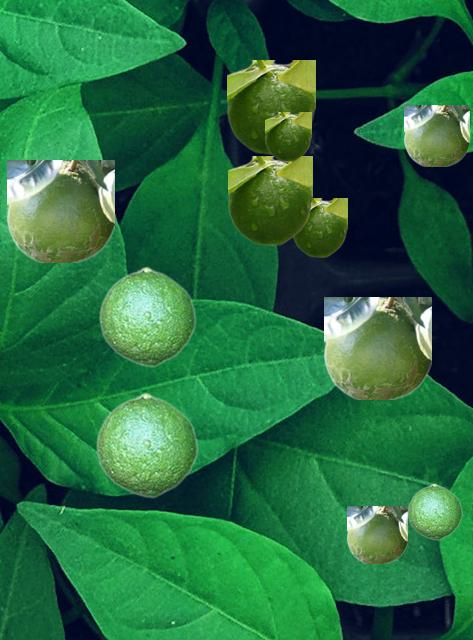dalandan: (95, 392, 197, 497), (7, 160, 113, 261), (324, 297, 430, 398), (98, 266, 195, 366), (227, 60, 314, 153), (228, 156, 311, 244), (404, 105, 468, 165), (347, 506, 406, 562), (293, 198, 346, 256), (407, 483, 461, 539), (265, 112, 310, 160)
